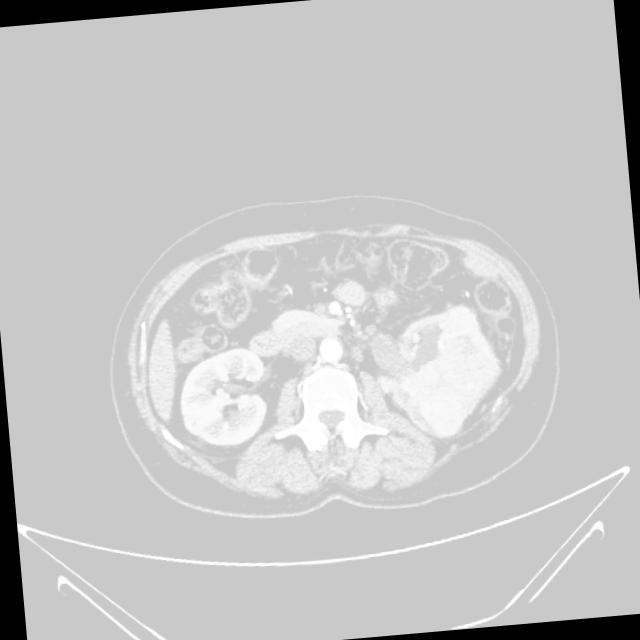TUMOR: (178, 272, 537, 461)
